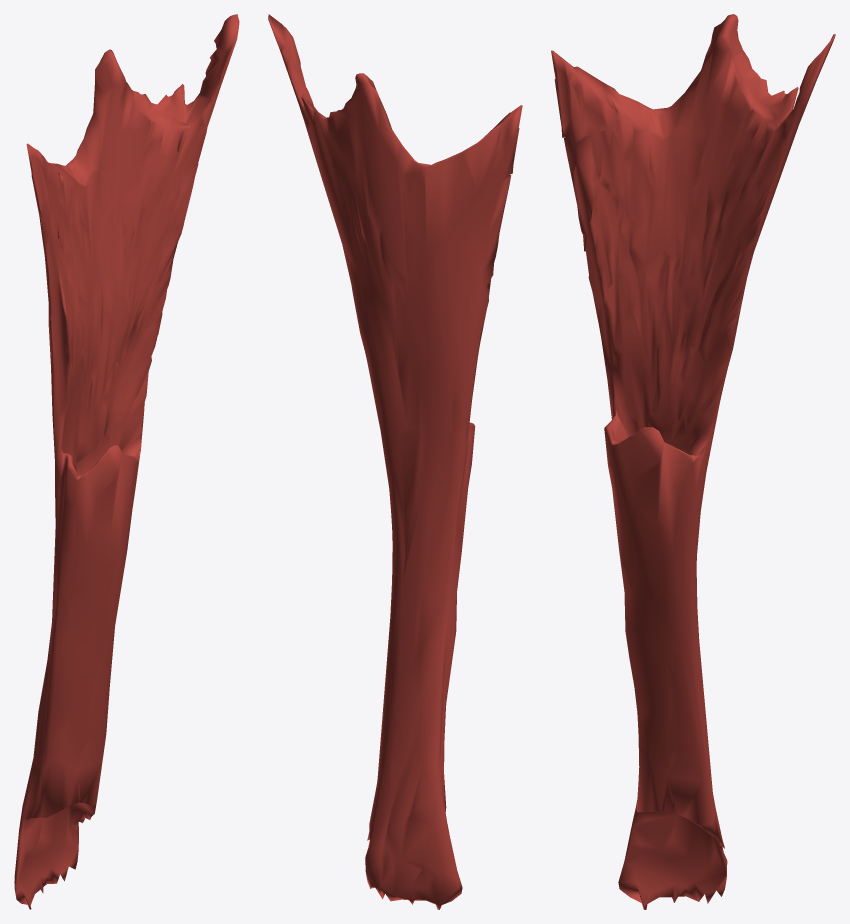
Rendered from musculos-calcaneal-tendon-l.glb.
3 renders of one model, left to right at view 1: azimuth 30°, elevation 25°; view 2: azimuth 150°, elevation 25°; view 3: azimuth 330°, elevation 25°, orthographic. The views are drawn at different scales.
Visible parts, largest first — view 1: Calcaneal tendon.l; view 2: Calcaneal tendon.l; view 3: Calcaneal tendon.l.
Part boxes in pixels (x1,y1,x2,y2): Calcaneal tendon.l: (14,14,239,909); Calcaneal tendon.l: (268,14,522,909); Calcaneal tendon.l: (551,14,835,909).
Bounding box in the file's own units: 0.0631 × 0.2201 × 0.0272.
